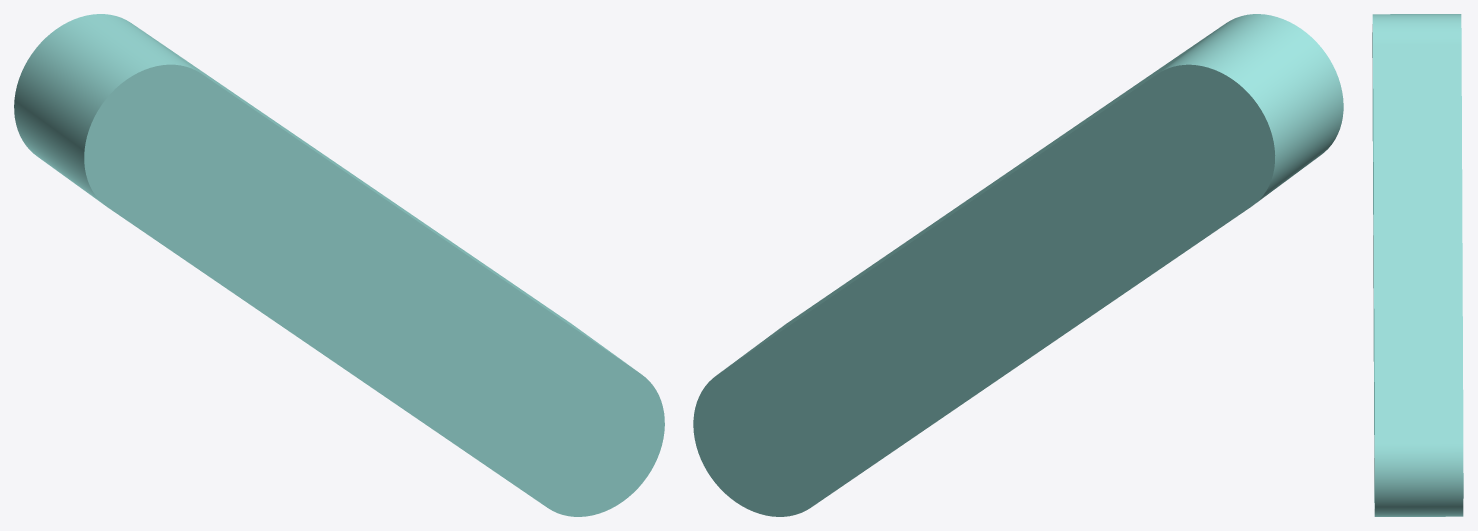
File: _MmTeSqYZZIFXV2OsA.gltf
The picture shows the model from 3 angles, left to right: view 1: azimuth 30°, elevation 25°; view 2: azimuth 150°, elevation 25°; view 3: azimuth 270°, elevation 25°; orthographic projection. The views are drawn at different scales.
Visible parts, largest first — view 1: Link; view 2: Link; view 3: Link.
Boxes of the visible parts, left/top/right/bottom form: Link: left=14, top=14, right=664, bottom=516; Link: left=693, top=14, right=1343, bottom=516; Link: left=1372, top=14, right=1463, bottom=516.
Size of the model in its own units: 0.0247 by 0.0226 by 0.00524.
